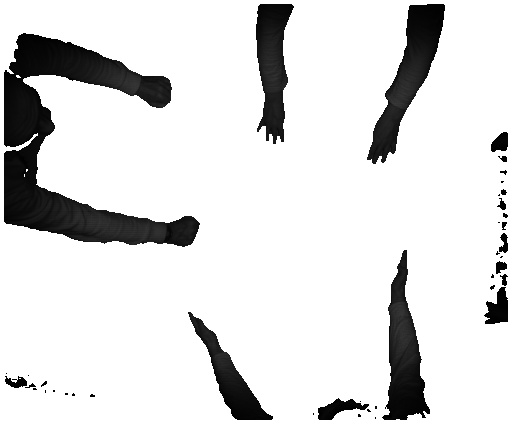fist: (146, 72, 175, 111), (170, 216, 199, 247)
hand: (360, 124, 407, 167), (256, 103, 287, 143)
spine: (187, 312, 231, 354), (384, 248, 407, 300)
